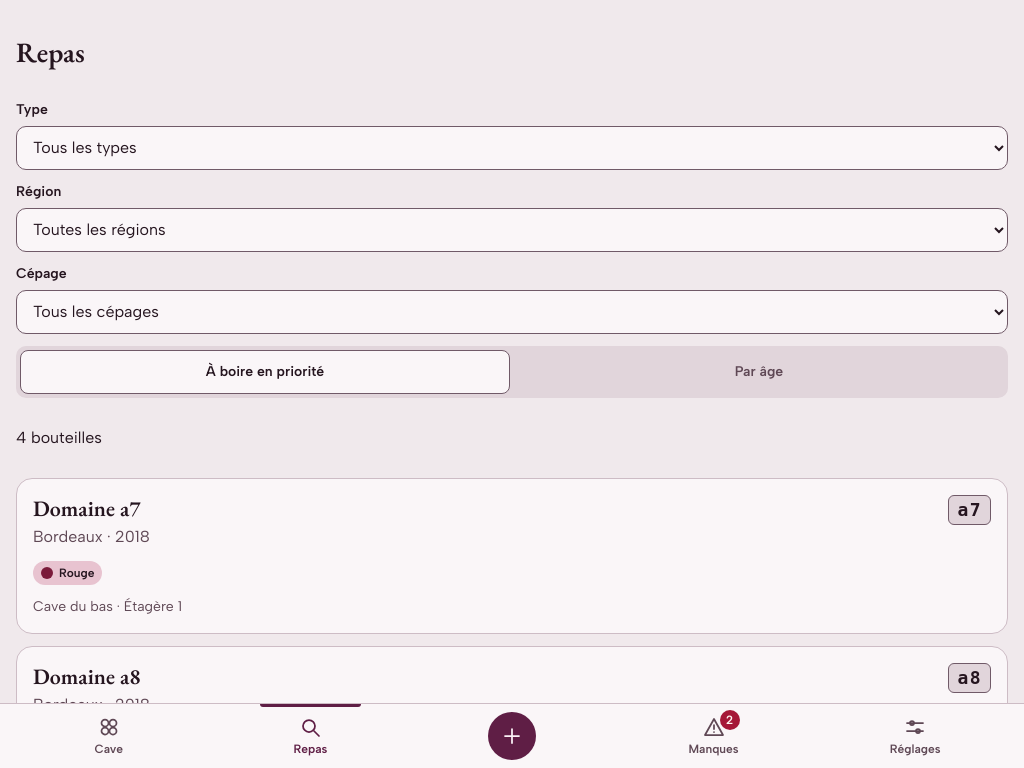
Test: Pastille des manques (CdC §3.7) › relue à chaque changement d’écran
Expected: the text named "2 catégories en manque" is shown, [720, 710, 740, 730]
Click the link "Cave".
click(109, 736)  # box [95, 715, 123, 756]
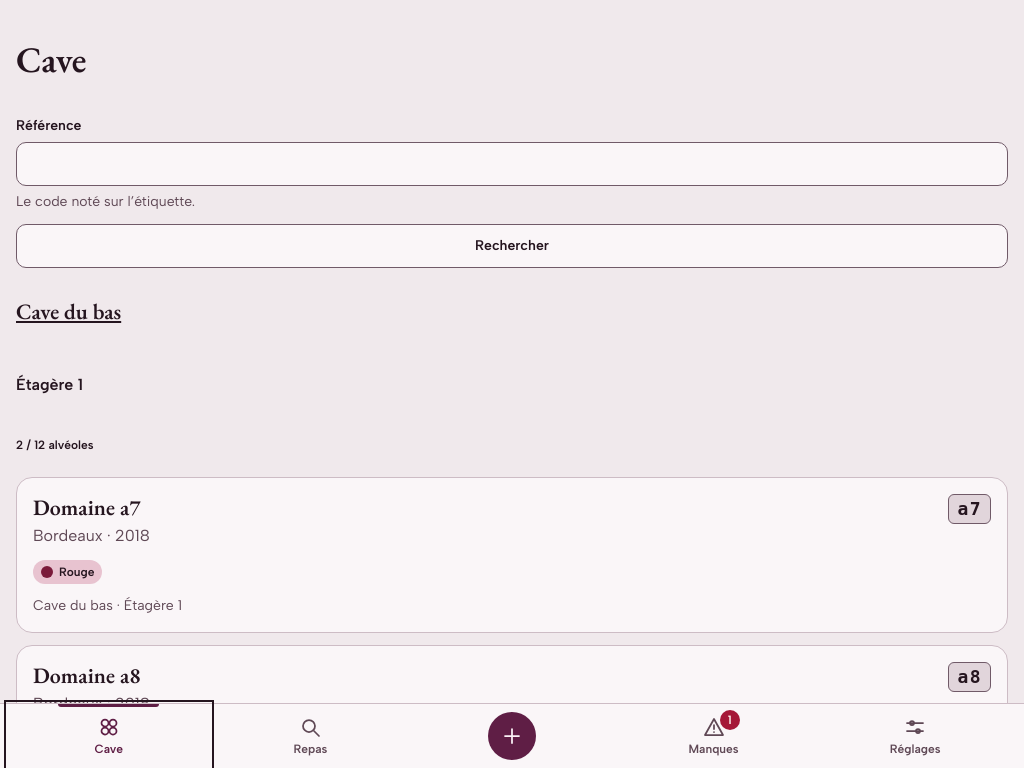
Result: the text named "1 catégorie en manque" is shown at [720, 710, 740, 730]
